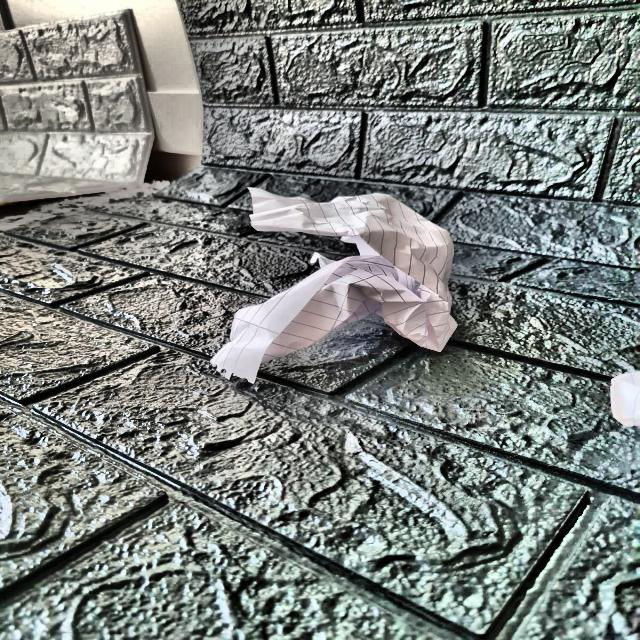Paper: (250, 184, 460, 373)
